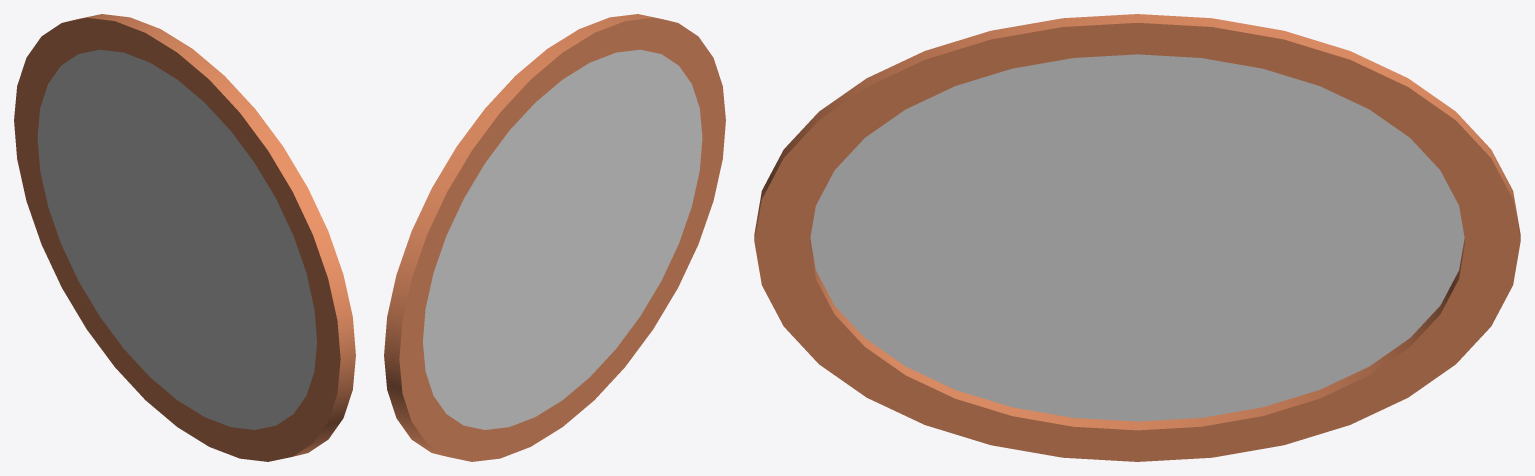
The model's file is Frame4.fbx.
3 renders of one model, left to right at view 1: azimuth 30°, elevation 25°; view 2: azimuth 150°, elevation 25°; view 3: azimuth 270°, elevation 25°, orthographic. The views are drawn at different scales.
Visible parts, largest first — view 1: Frame4; view 2: Frame4; view 3: Frame4.
Part boxes in pixels (x1,y1,x2,y2): Frame4: [14, 14, 355, 461]; Frame4: [384, 14, 725, 461]; Frame4: [754, 14, 1520, 461].
Size of the model in its own units: 1.53 by 0.9706 by 0.0417.
